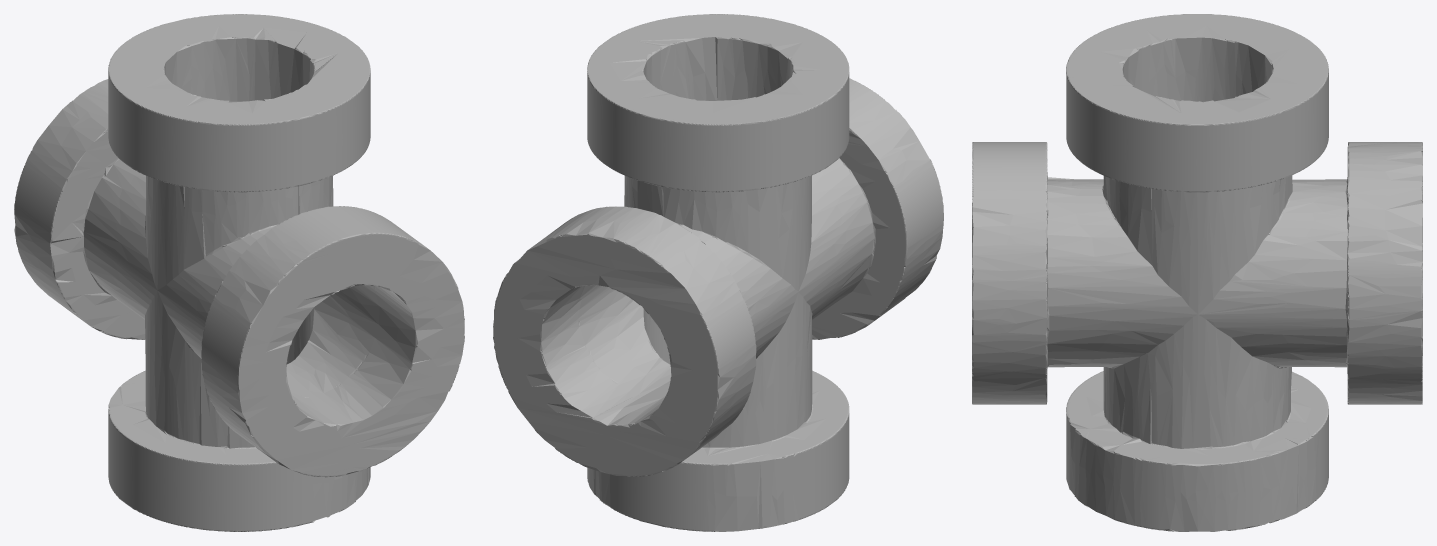
The model's file is Pipe10.fbx.
3 views of the same model, side by side, from view 1: azimuth 30°, elevation 25°; view 2: azimuth 150°, elevation 25°; view 3: azimuth 270°, elevation 25° (orthographic).
Parts seen in each view (by area): view 1: Pipe10; view 2: Pipe10; view 3: Pipe10.
Part boxes in pixels (x1,y1,x2,y2): Pipe10: (14,14,464,531); Pipe10: (493,14,943,531); Pipe10: (972,14,1422,531).
Size of the model in its own units: 199 by 341 by 342.
